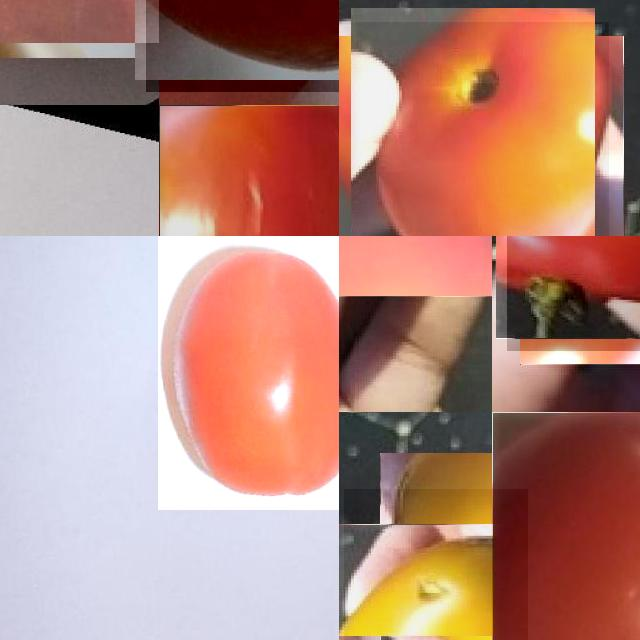0: (339, 22, 609, 236)
1: (159, 105, 339, 236), (146, 0, 339, 92)
Fresh Tomato: (158, 236, 339, 510), (492, 412, 640, 640), (507, 236, 640, 351)
Rotten Tomato: (344, 488, 527, 640)
